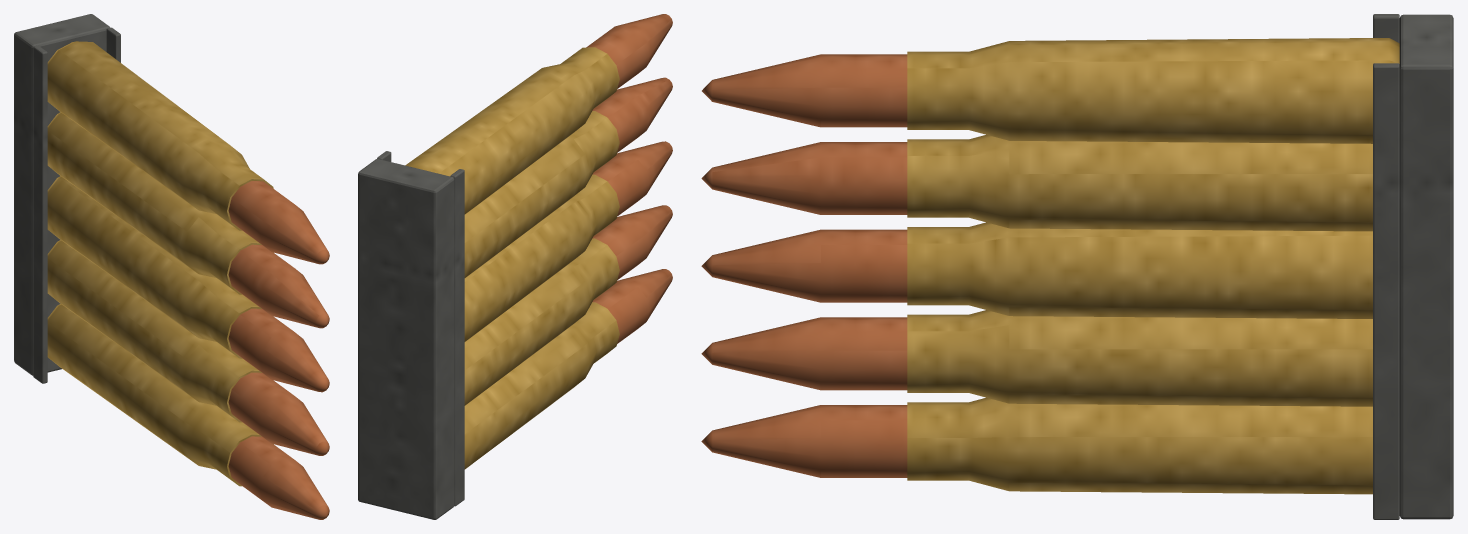
Rendered from clip_k98.glb.
The picture shows the model from 3 angles, left to right: view 1: azimuth 30°, elevation 25°; view 2: azimuth 150°, elevation 25°; view 3: azimuth 270°, elevation 25°; orthographic projection. The views are drawn at different scales.
Parts seen in each view (by area): view 1: clip_k98; view 2: clip_k98; view 3: clip_k98.
Part boxes in pixels (<box>): clip_k98: <box>14,14,329,519</box>; clip_k98: <box>358,14,672,519</box>; clip_k98: <box>701,14,1453,519</box>.
Bounding box in the file's own units: 0.014 × 0.056 × 0.084.
Materials: 3 (3 with a texture image).
